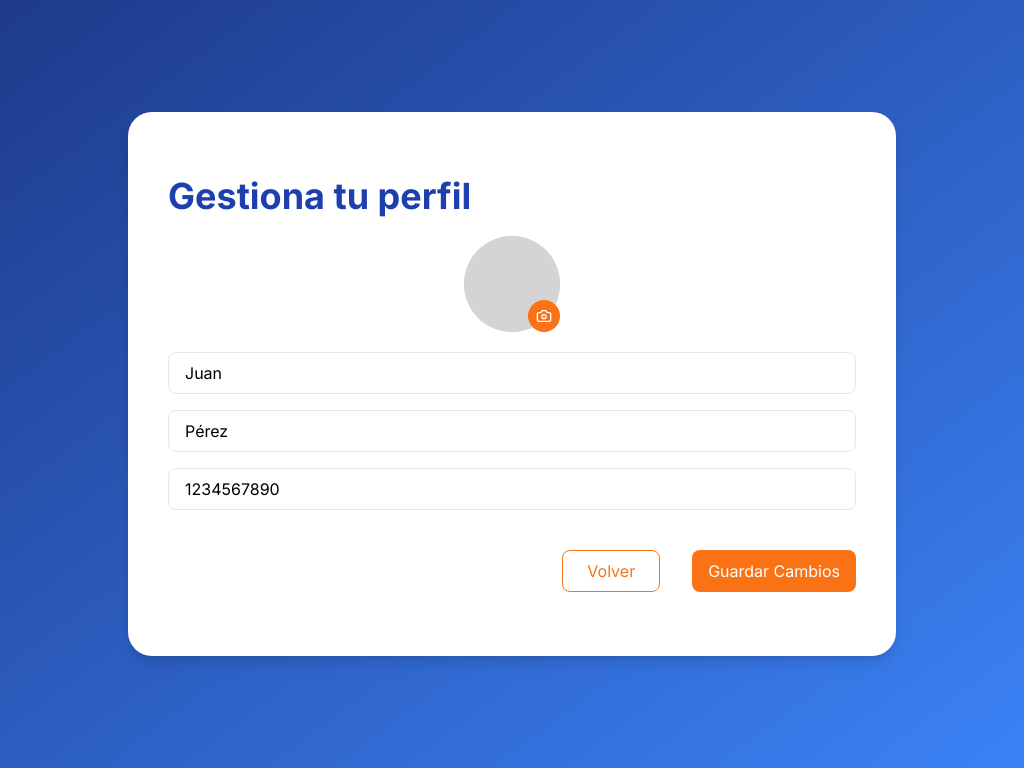
Scenario: ProfilePassenger › valida si el número de contacto contiene letras
expect the 1st field showing "Juan" is shown: met, box [168, 352, 856, 394]
Replace the text in the 3rd field with placeholder "Número de contacto" with "123abc456" at (512, 489), box [168, 468, 856, 510]
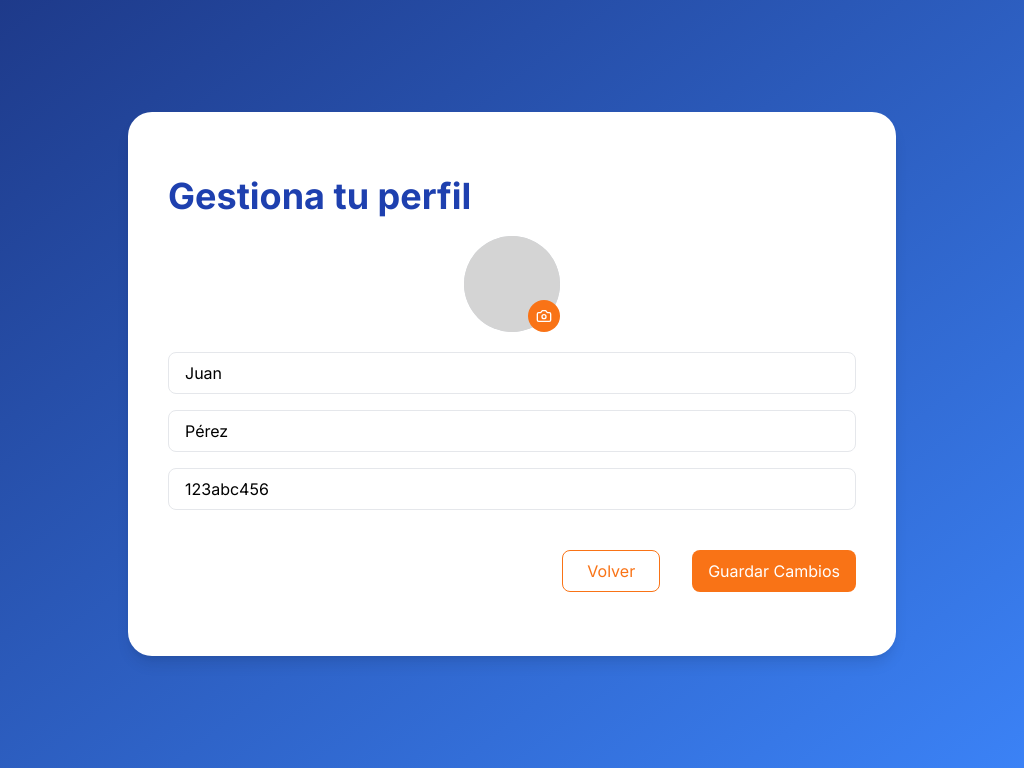
Click the button "Guardar Cambios" at (774, 571), box [692, 550, 856, 592]
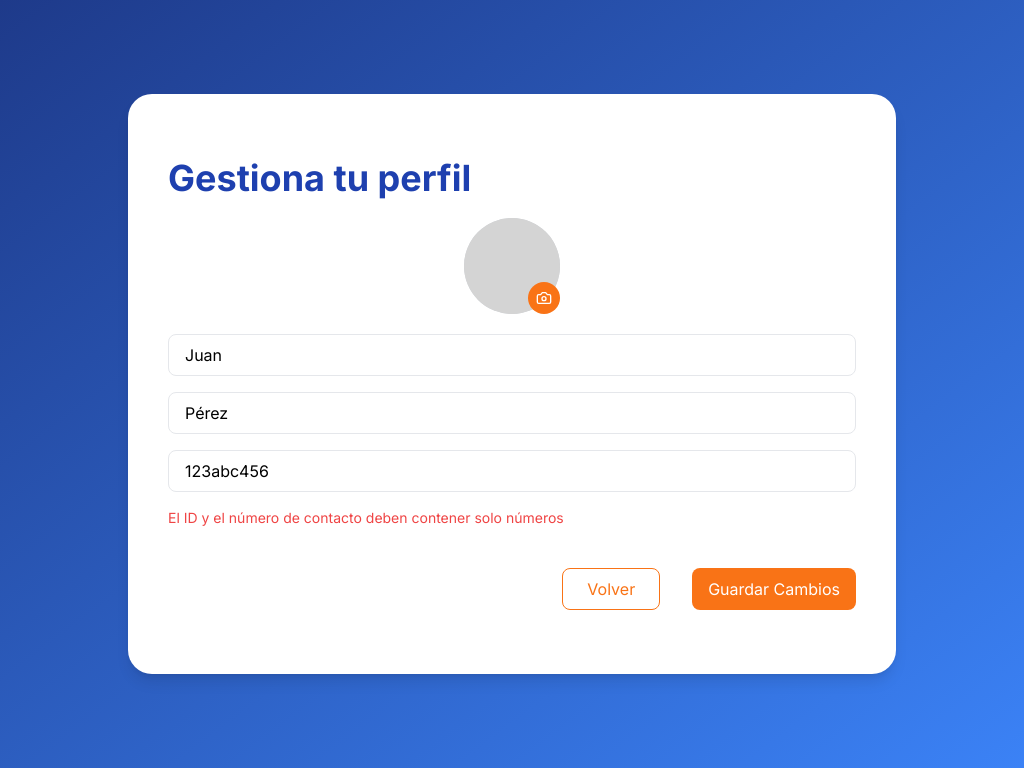
expect the text "El ID y el número de contacto deben contener solo números" is shown: met, box [168, 509, 564, 526]
